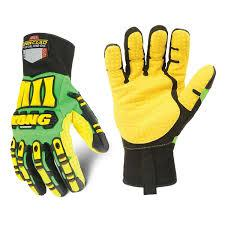gloves: (103, 24, 216, 195), (9, 32, 110, 198)
